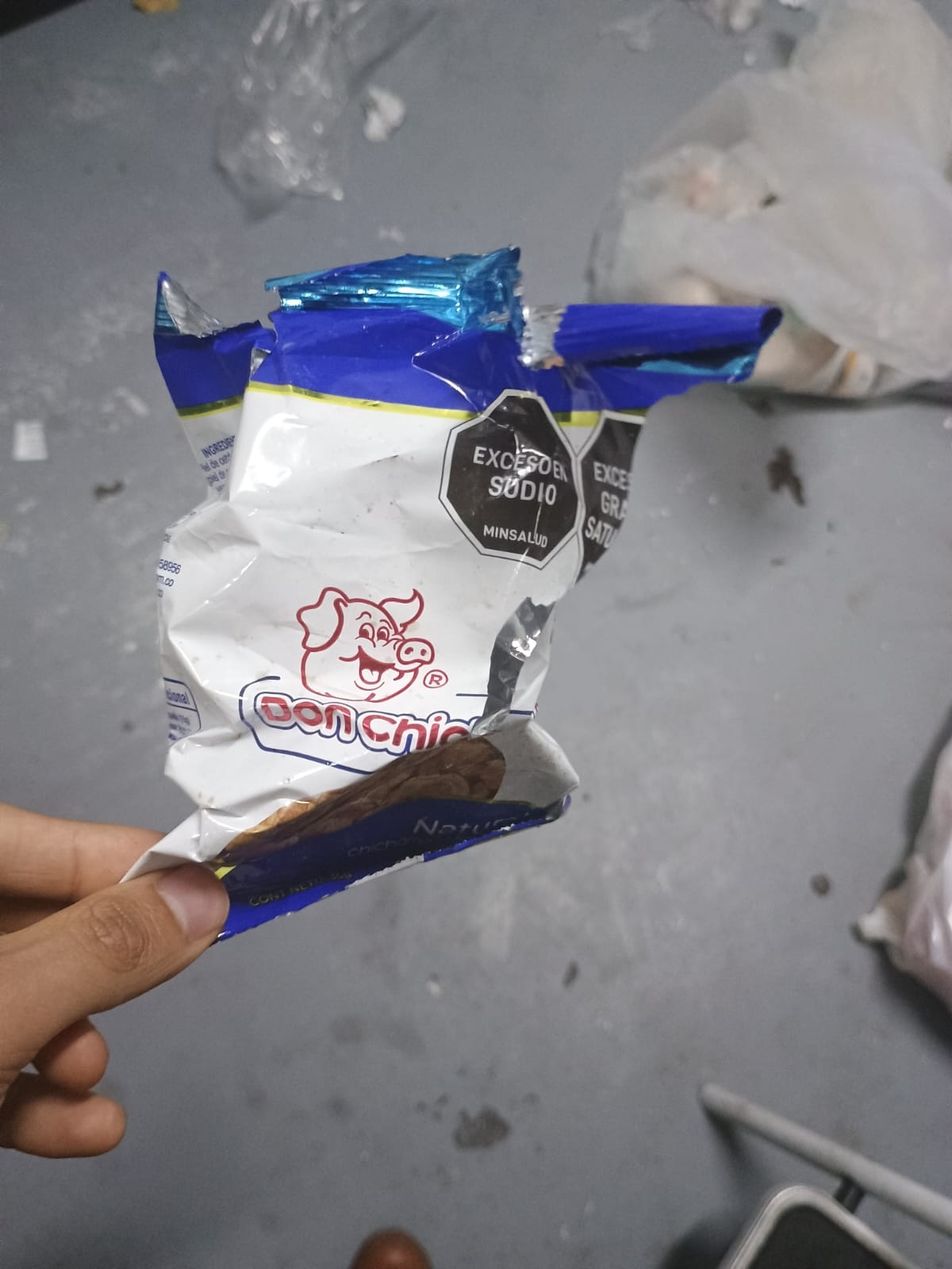Ordinario: (152, 246, 784, 950)
